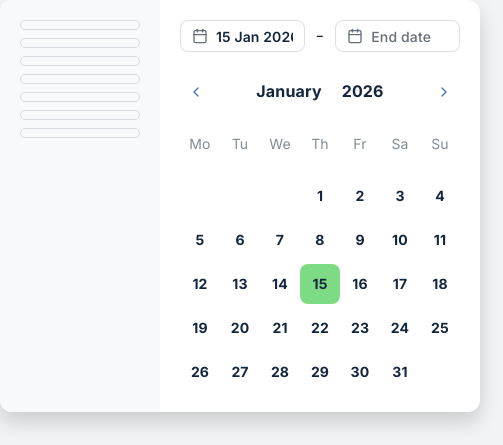
Test: DatePicker › wraps to previous year when navigating from January to December
Check: the text "January" is shown, box [256,82,322,102]
Check: the text "2026" is shown, box [342,82,384,102]
Click the button named "Previous month": (196, 92) [180,76,212,108]
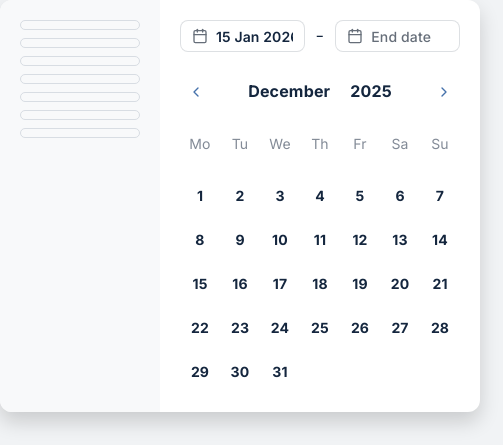
Check: the text "December" is shown, box [248,82,330,102]
Check: the text "2025" is shown, box [350,82,392,102]
